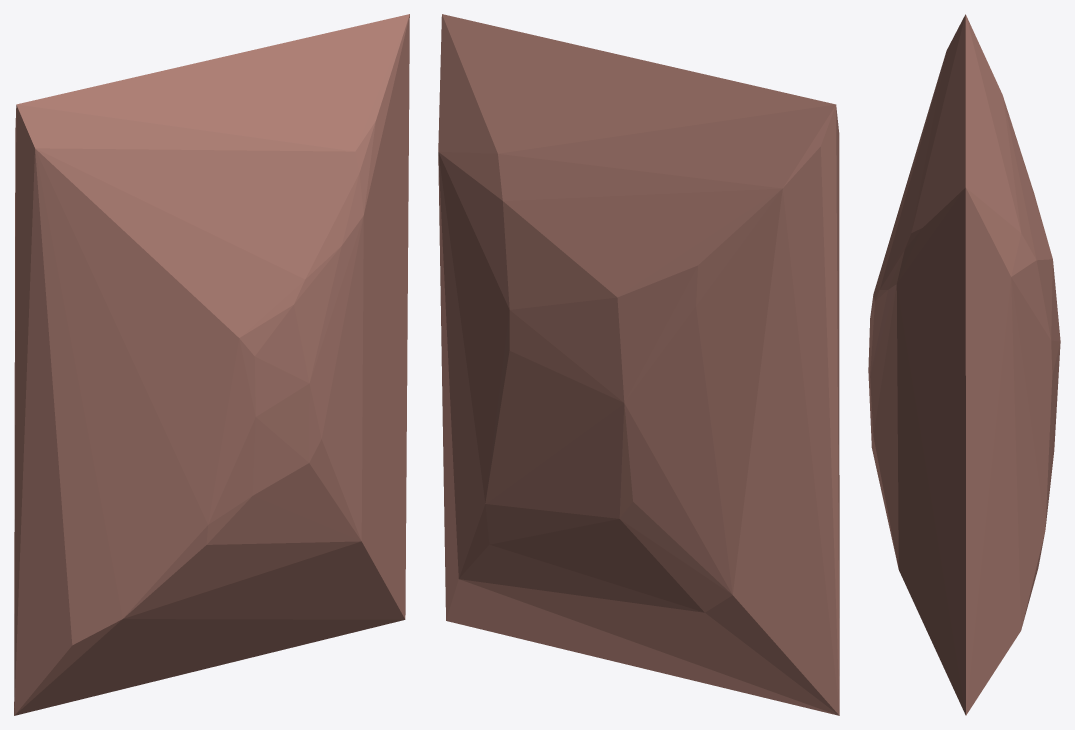
Rendered from food_processed_chips_f01.glb.
3 views of the same model, side by side, from view 1: azimuth 30°, elevation 25°; view 2: azimuth 150°, elevation 25°; view 3: azimuth 270°, elevation 25° (orthographic). The views are drawn at different scales.
Parts seen in each view (by area): view 1: geometry_0; view 2: geometry_0; view 3: geometry_0.
Boxes of the visible parts, left/top/right/bottom form: geometry_0: left=14, top=14, right=409, bottom=715; geometry_0: left=438, top=14, right=839, bottom=715; geometry_0: left=868, top=14, right=1060, bottom=715.
Size of the model in its own units: 0.3262 by 0.48 by 0.1562.
